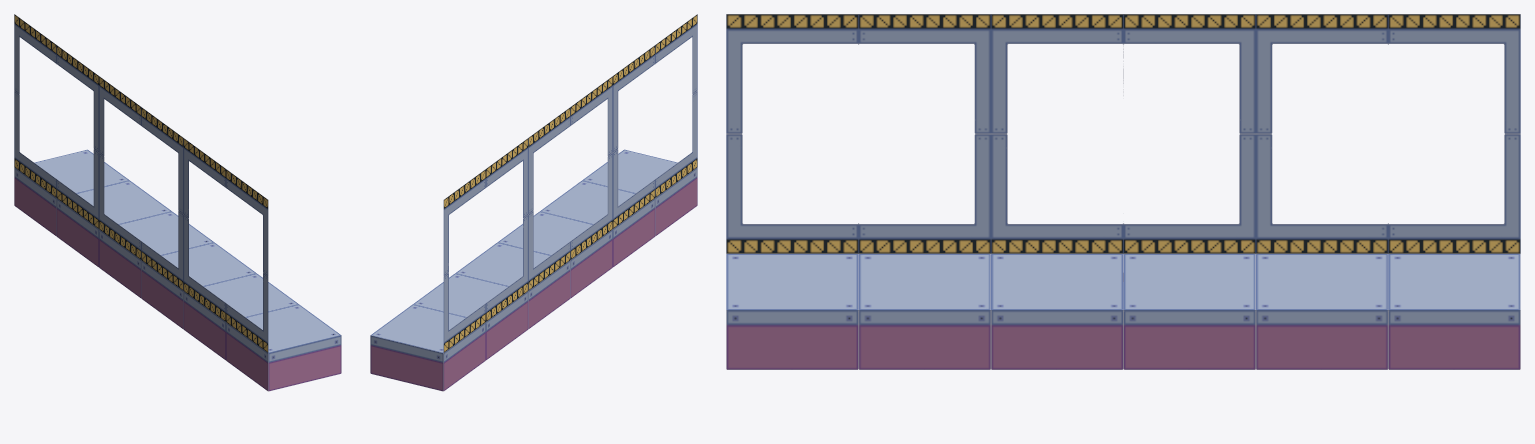
File: labo.fbx
3 renders of one model, left to right at view 1: azimuth 30°, elevation 25°; view 2: azimuth 150°, elevation 25°; view 3: azimuth 270°, elevation 25°, orthographic. The views are drawn at different scales.
Visible parts, largest first — view 1: Cube_007, Cube_001, Cube_002, Cube_004, Cube_008, Cube_006, Cube, Cube_003, Cube_005; view 2: Cube_005, Cube_002, Cube_001, Cube_004, Cube_006, Cube_008, Cube_003, Cube, Cube_007; view 3: Cube_004, Cube_002, Cube_001, Cube_007, Cube_005, Cube_003, Cube, Cube_008, Cube_006.
Boxes of the visible parts, x1=… form: Cube_007: x1=226, y1=304, x2=341, y2=391; Cube_001: x1=183, y1=138, x2=268, y2=352; Cube_002: x1=14, y1=14, x2=98, y2=228; Cube_004: x1=99, y1=76, x2=183, y2=290; Cube_008: x1=183, y1=273, x2=298, y2=360; Cube_006: x1=56, y1=180, x2=171, y2=267; Cube: x1=141, y1=242, x2=256, y2=329; Cube_003: x1=99, y1=211, x2=214, y2=297; Cube_005: x1=14, y1=149, x2=129, y2=236; Cube_005: x1=370, y1=304, x2=485, y2=391; Cube_002: x1=443, y1=138, x2=528, y2=352; Cube_001: x1=613, y1=14, x2=697, y2=228; Cube_004: x1=528, y1=76, x2=612, y2=290; Cube_006: x1=413, y1=273, x2=528, y2=360; Cube_008: x1=540, y1=180, x2=655, y2=267; Cube_003: x1=455, y1=242, x2=570, y2=329; Cube: x1=497, y1=211, x2=612, y2=297; Cube_007: x1=582, y1=149, x2=697, y2=236; Cube_004: x1=991, y1=14, x2=1255, y2=253; Cube_002: x1=1256, y1=14, x2=1520, y2=253; Cube_001: x1=726, y1=14, x2=990, y2=253; Cube_007: x1=726, y1=254, x2=858, y2=369; Cube_005: x1=1388, y1=254, x2=1520, y2=369; Cube_003: x1=1123, y1=254, x2=1255, y2=369; Cube: x1=991, y1=254, x2=1123, y2=369; Cube_008: x1=858, y1=254, x2=990, y2=369; Cube_006: x1=1256, y1=254, x2=1388, y2=369.
Size of the model in its own units: 200 by 600 by 1200.
Materials: 1 (1 with a texture image).
